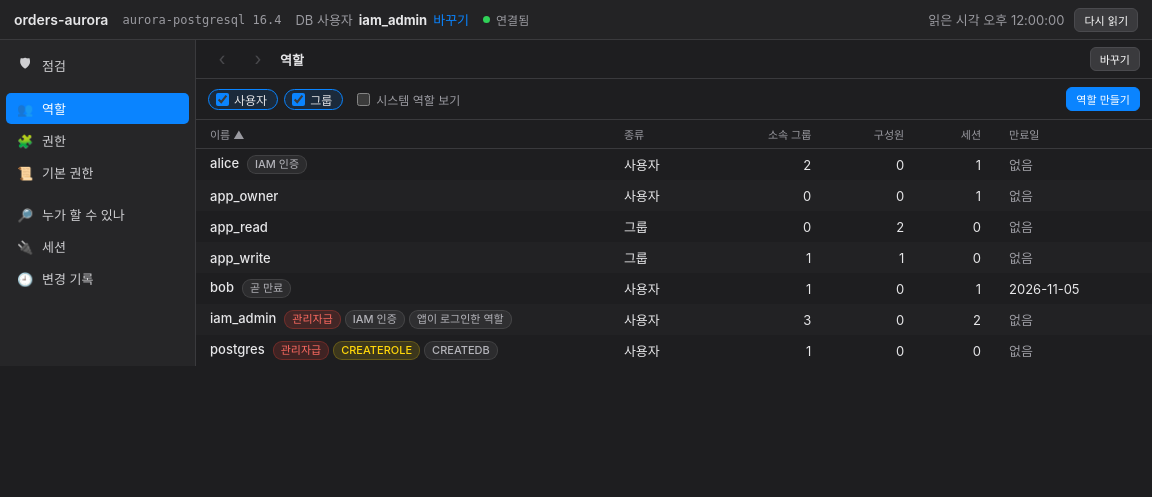
the tray › shows what was queued from a cell of the privileges table
Click the button "🧩 권한": (98, 140) [6,125,189,156]
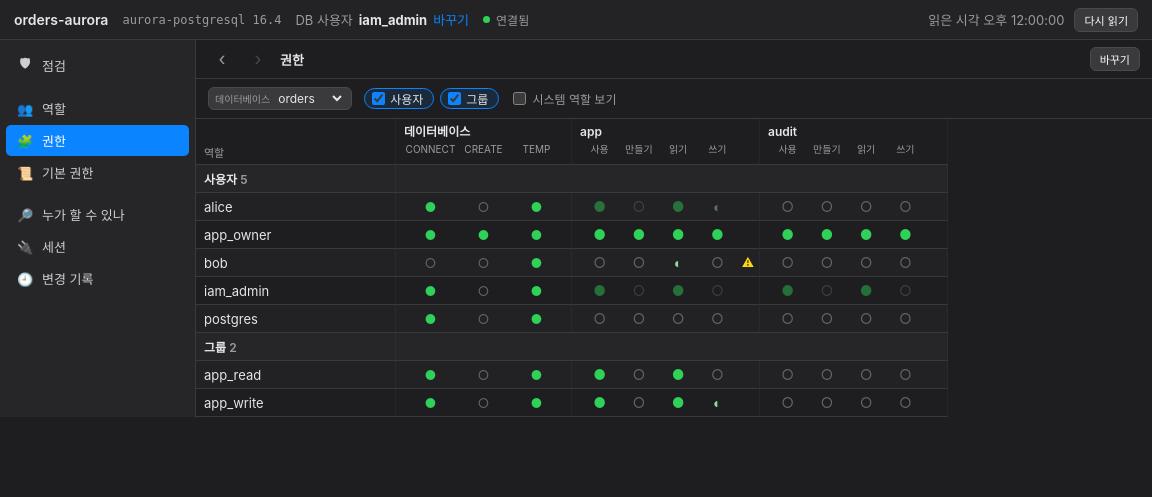
Click the 2nd button "바꾸기": (1115, 59) [1090,47,1140,71]
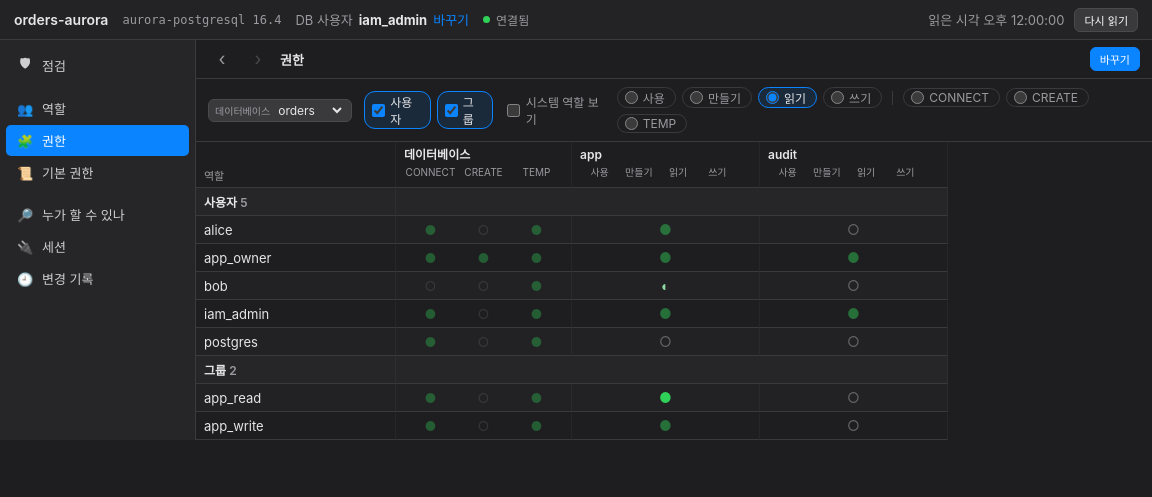
Click the button "○" in the row of "alice": (854, 230) [760,216,947,243]
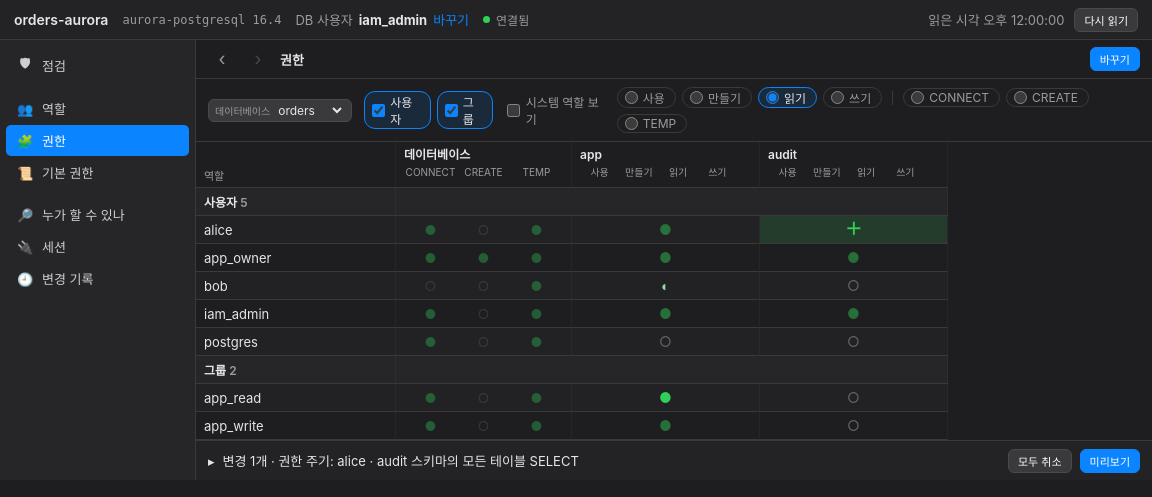
Expected: the text "변경 1개 · 권한 주기: alice · audit 스키마의 모든 테이블 SELECT" is shown, [222,451,579,470]
Click the button "○" in the row of "bob": (854, 286) [760,272,947,299]
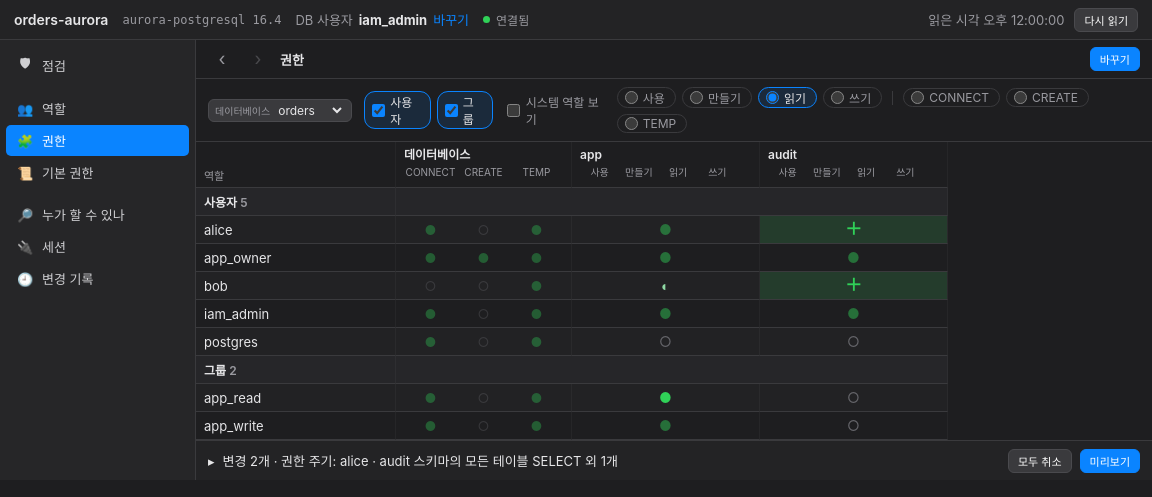
Expected: the text "변경 2개 · 권한 주기: alice · audit 스키마의 모든 테이블 SELECT 외 1개" is shown, [222,451,618,470]
